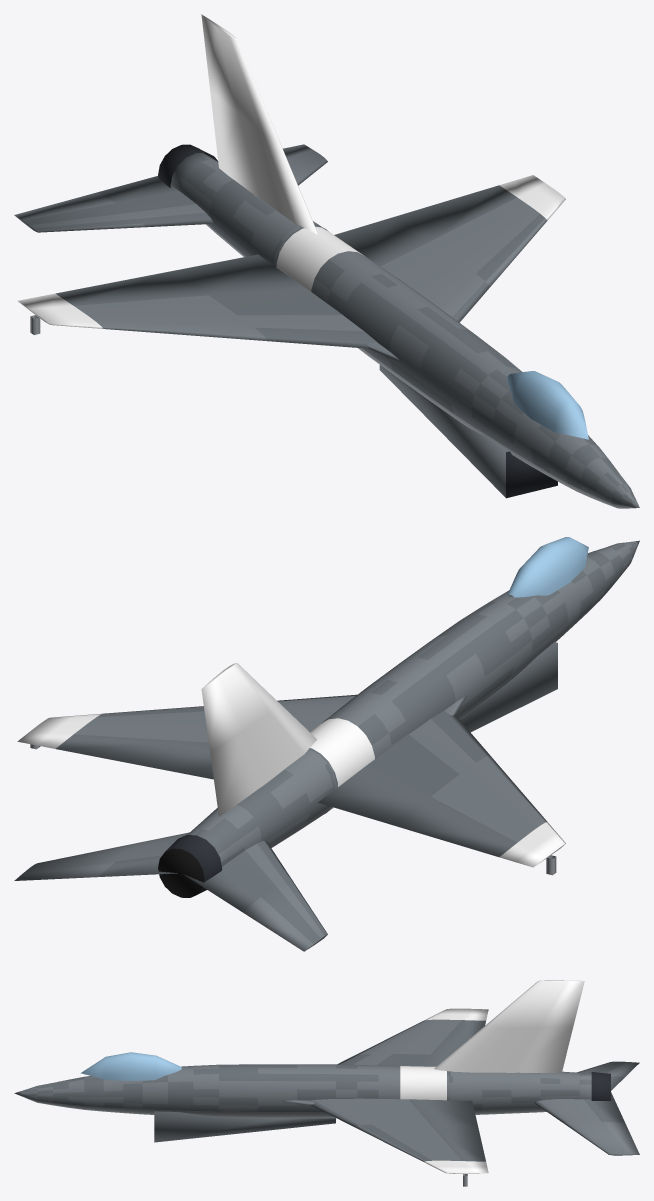
3 renders of one model, top to bottom at view 1: azimuth 30°, elevation 25°; view 2: azimuth 150°, elevation 25°; view 3: azimuth 270°, elevation 25°, orthographic. The views are drawn at different scales.
Visible parts, largest first — view 1: body; view 2: body; view 3: body.
Boxes of the visible parts, x1,y1,x2,y2 form: body: (14, 14, 639, 508); body: (14, 537, 639, 951); body: (14, 980, 639, 1186).
Size of the model in its own units: 10.08 by 4.35 by 16.08.
